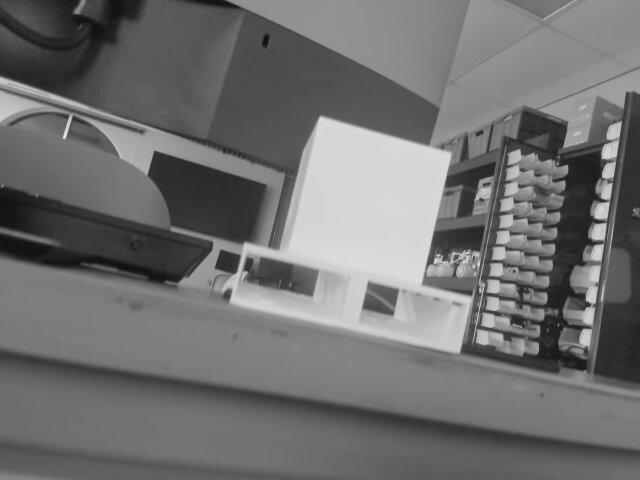white pallet: (213, 110, 475, 362)
